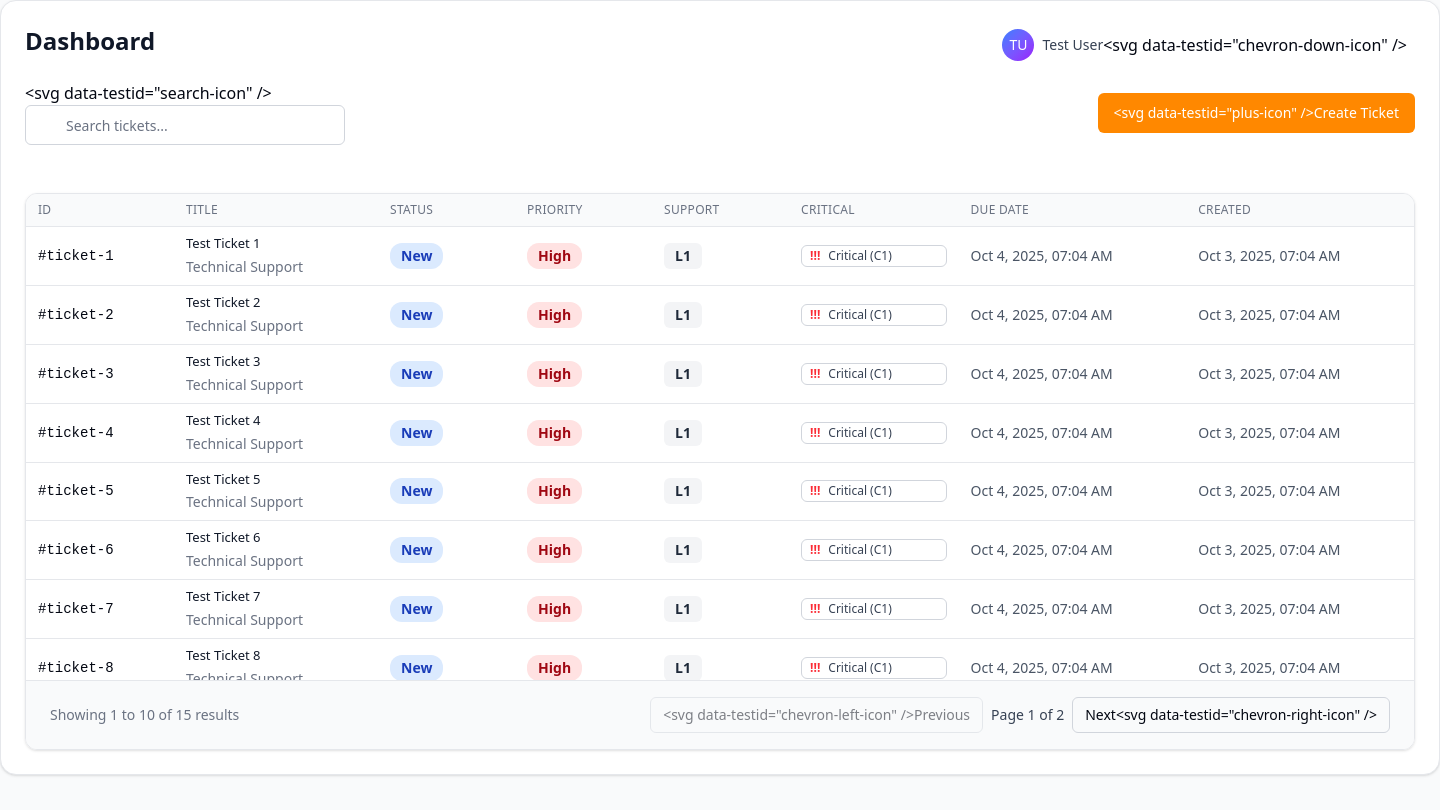
Test: TicketListPage › Pagination › should show pagination controls when there are many tickets
Expected: the button "<svg data-testid=\"chevron-left-icon\" />Previous" is shown, [650,697,983,733]
Click the button "Next<svg data-testid=\"chevron-right-icon\" />" at point(1231, 715), box [1072,697,1390,733]
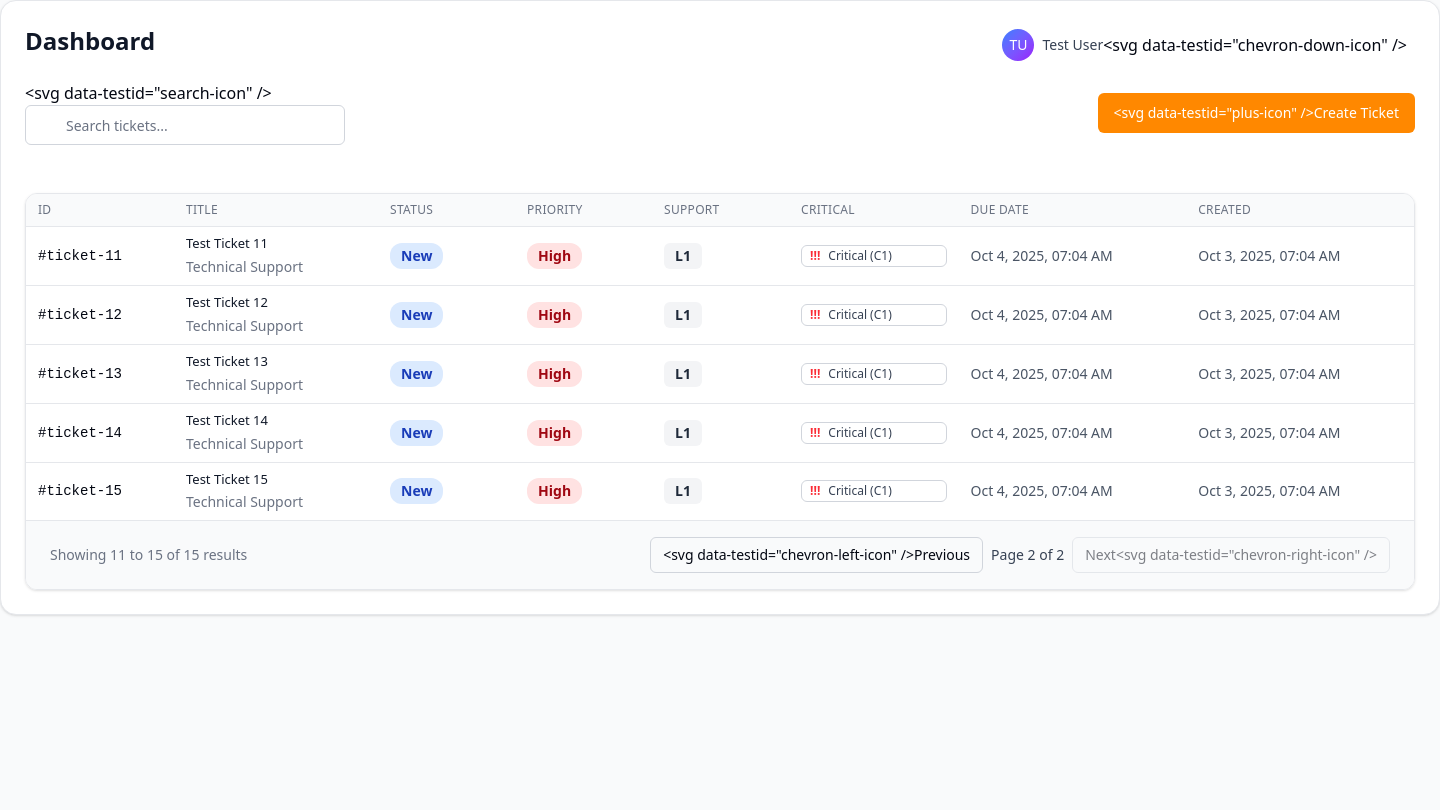
Expected: the text "Page 2 of 2" is shown, [991,545,1064,565]
